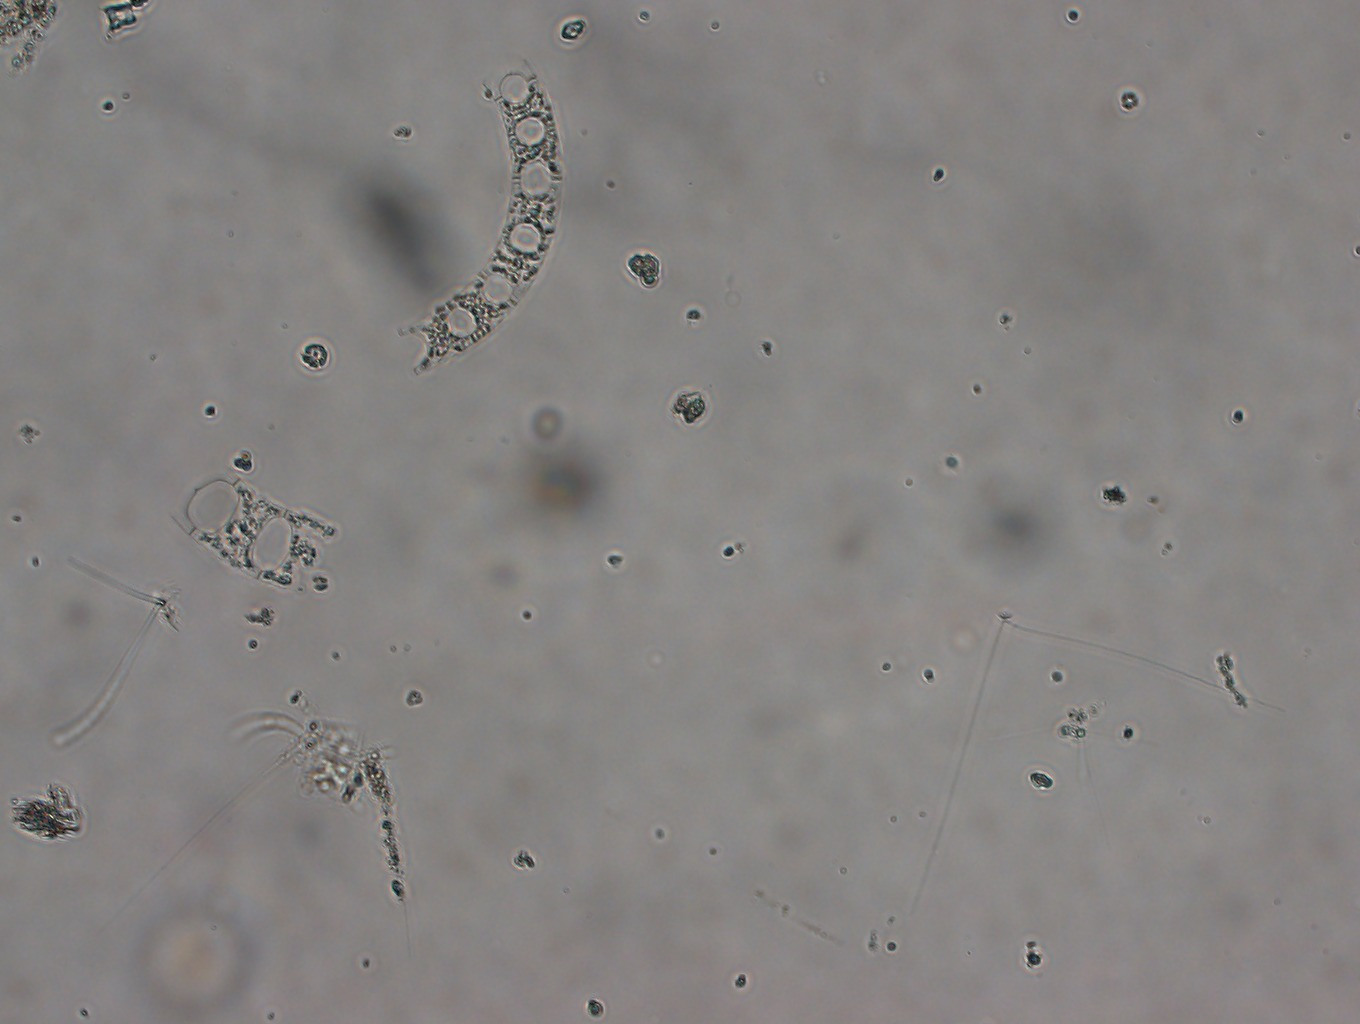eucampia: (384, 45, 570, 383), (159, 461, 346, 600)
